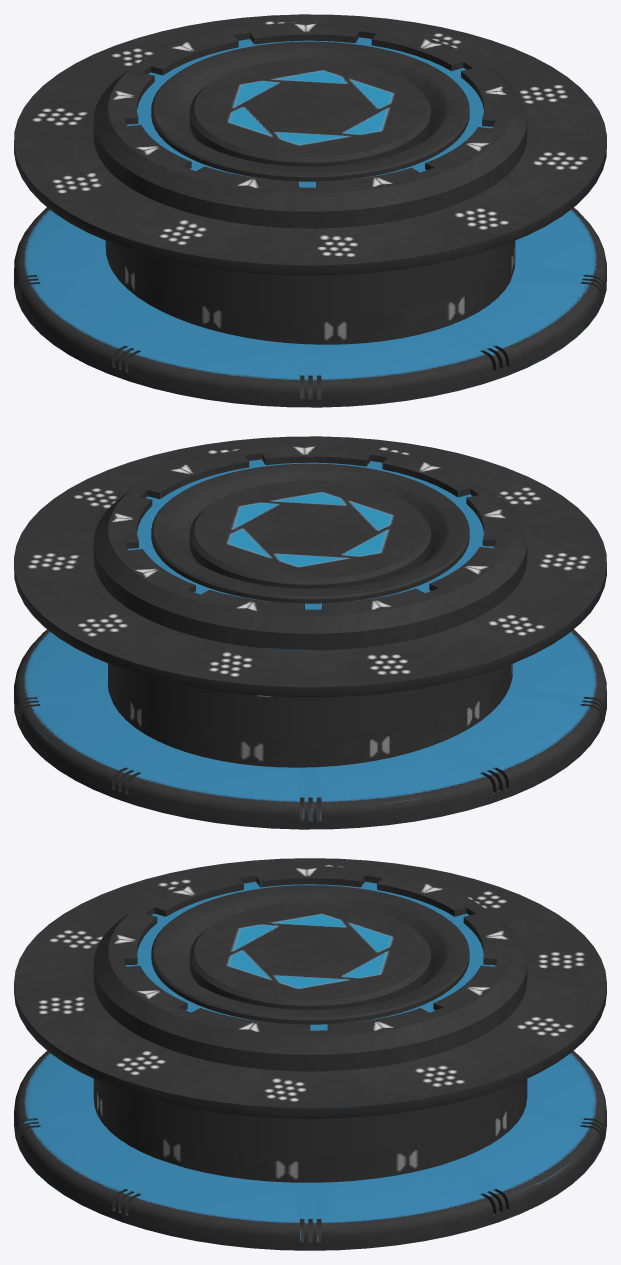
File: Shelf.fbx
3 views of the same model, one above another, from view 1: azimuth 30°, elevation 25°; view 2: azimuth 150°, elevation 25°; view 3: azimuth 270°, elevation 25° (orthographic).
Parts seen in each view (by area): view 1: Shelf; view 2: Shelf; view 3: Shelf.
Boxes of the visible parts, x1,y1,x2,y2 form: Shelf: (14, 14, 606, 407); Shelf: (14, 436, 606, 829); Shelf: (14, 858, 606, 1250).
Size of the model in its own units: 378 by 176 by 378.
